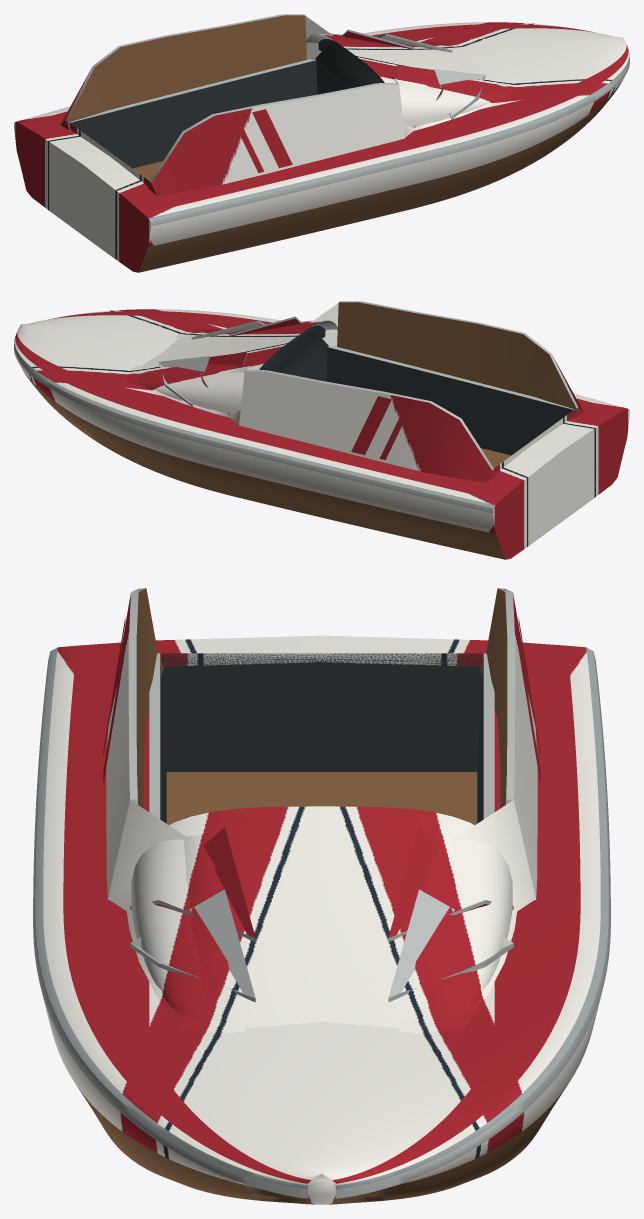
File: Hull_17_SR_白鋼・赤稜.glb
The picture shows the model from 3 angles, top to bottom: view 1: azimuth 30°, elevation 25°; view 2: azimuth 150°, elevation 25°; view 3: azimuth 270°, elevation 25°; orthographic projection. The views are drawn at different scales.
Visible parts, largest first — view 1: Hull_17_SR; view 2: Hull_17_SR; view 3: Hull_17_SR.
Boxes of the visible parts, left/top/right/bottom form: Hull_17_SR: left=14, top=14, right=629, bottom=272; Hull_17_SR: left=14, top=301, right=629, bottom=559; Hull_17_SR: left=33, top=588, right=610, bottom=1204.
Size of the model in its own units: 2.9 by 0.6856 by 1.34.
Materials: 4 (4 with a texture image).
